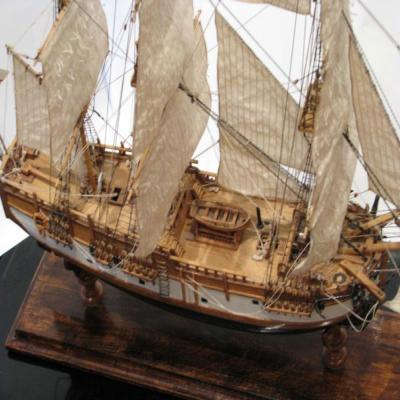other: (0, 0, 400, 343)
